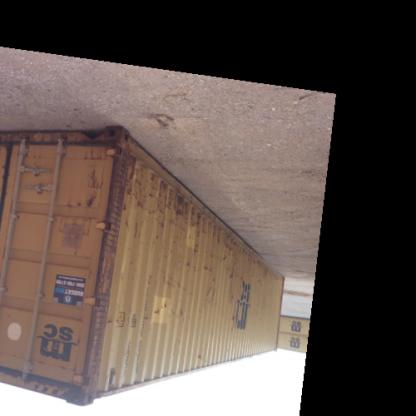Damage: (115, 156, 186, 246), (80, 168, 107, 216), (214, 228, 243, 265), (142, 298, 172, 326), (193, 209, 209, 259), (78, 146, 113, 166), (157, 273, 187, 293), (204, 274, 219, 308), (254, 260, 269, 284), (178, 304, 192, 323), (225, 316, 243, 330), (104, 314, 116, 334), (226, 290, 238, 308), (194, 350, 208, 364), (228, 266, 237, 284), (200, 266, 214, 275), (184, 258, 194, 270)
